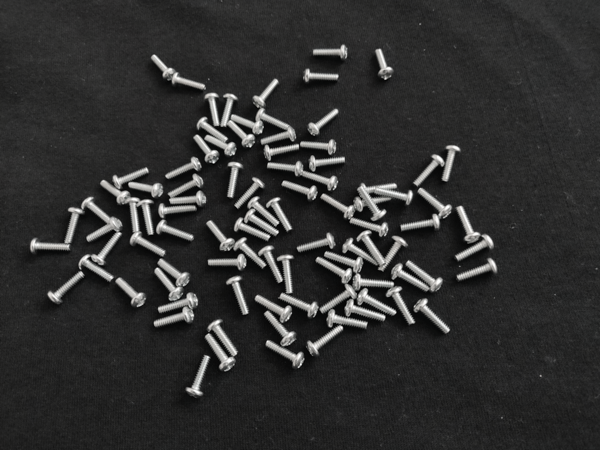shortscrew: (413, 299, 451, 334), (47, 272, 85, 306), (265, 339, 306, 370), (417, 187, 453, 222), (406, 260, 444, 293), (306, 325, 345, 357), (318, 285, 358, 316), (265, 311, 298, 348), (455, 233, 497, 262), (207, 319, 239, 357), (205, 334, 236, 373), (386, 285, 416, 325), (390, 263, 431, 292), (357, 230, 388, 267), (186, 355, 212, 399), (357, 289, 397, 317), (154, 267, 185, 303), (414, 154, 446, 188), (378, 237, 408, 273), (279, 293, 319, 320), (345, 299, 385, 326), (157, 258, 193, 288), (92, 231, 122, 267), (255, 295, 292, 324), (320, 193, 356, 222), (77, 254, 114, 282), (234, 177, 266, 209), (359, 188, 387, 224), (244, 209, 280, 237), (153, 306, 195, 330), (316, 257, 353, 284), (116, 278, 147, 310), (233, 239, 266, 269), (226, 276, 250, 317), (258, 245, 283, 284), (130, 232, 167, 258), (169, 174, 206, 200), (248, 196, 280, 226), (324, 251, 364, 275), (307, 108, 340, 137), (266, 198, 293, 233), (158, 292, 199, 315), (252, 78, 282, 109), (87, 217, 124, 242), (196, 116, 229, 144), (457, 205, 480, 245), (326, 310, 369, 331), (457, 259, 498, 281), (207, 220, 235, 252), (234, 217, 271, 241), (113, 167, 150, 191), (157, 220, 195, 243), (297, 233, 337, 254), (165, 157, 203, 179), (350, 217, 389, 238), (303, 170, 340, 192), (100, 181, 131, 207), (205, 134, 238, 158), (399, 215, 442, 233), (64, 208, 85, 244), (194, 135, 220, 164), (254, 109, 289, 130), (442, 145, 461, 183), (263, 143, 299, 163), (231, 114, 265, 135), (352, 274, 394, 291), (30, 238, 72, 255), (277, 255, 295, 294), (82, 197, 109, 223), (220, 93, 239, 129), (169, 191, 207, 209), (128, 181, 164, 200), (374, 189, 414, 206), (151, 54, 176, 81), (375, 49, 396, 81), (226, 162, 244, 199), (299, 139, 338, 156), (208, 255, 247, 272), (173, 71, 206, 91), (354, 196, 392, 213), (262, 128, 297, 146), (309, 155, 345, 172), (205, 93, 223, 126), (312, 45, 349, 60), (359, 184, 398, 198), (304, 68, 340, 83), (159, 203, 197, 217)
